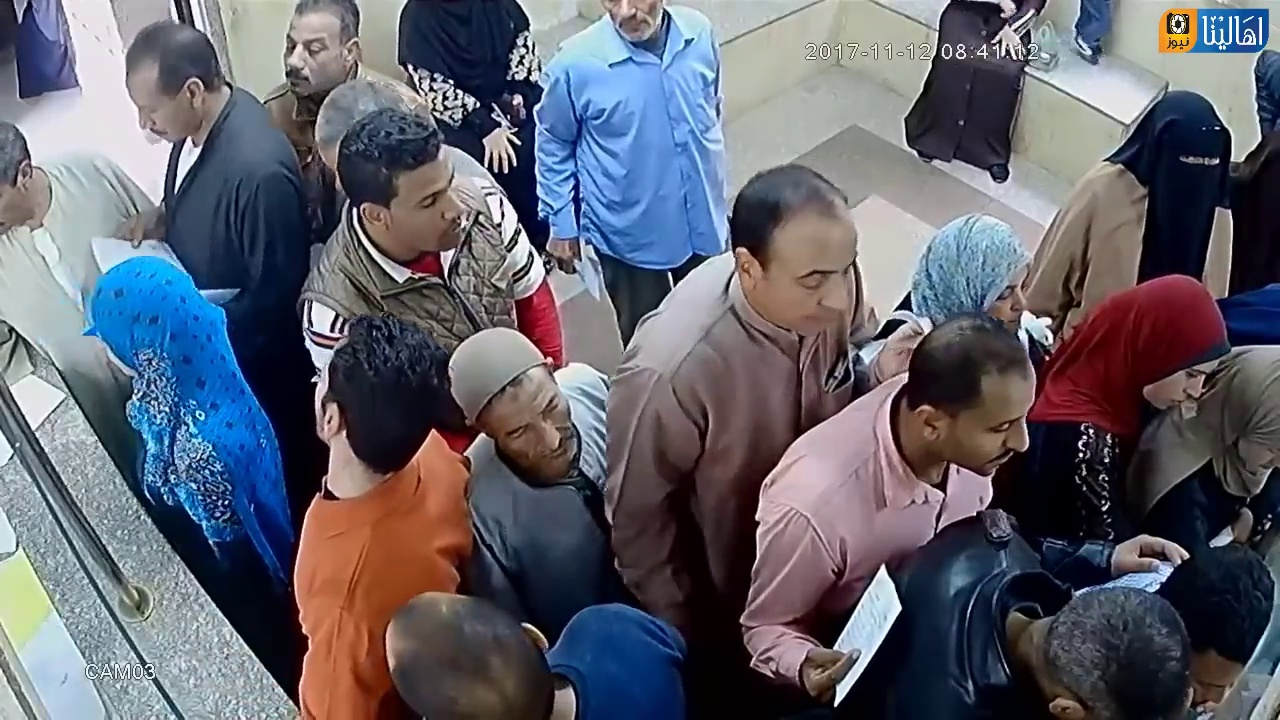face: (763, 234, 865, 345), (480, 387, 580, 477), (970, 368, 1033, 477), (381, 169, 463, 249), (124, 58, 184, 151), (1148, 331, 1207, 417), (281, 19, 337, 94), (1169, 142, 1226, 195)
